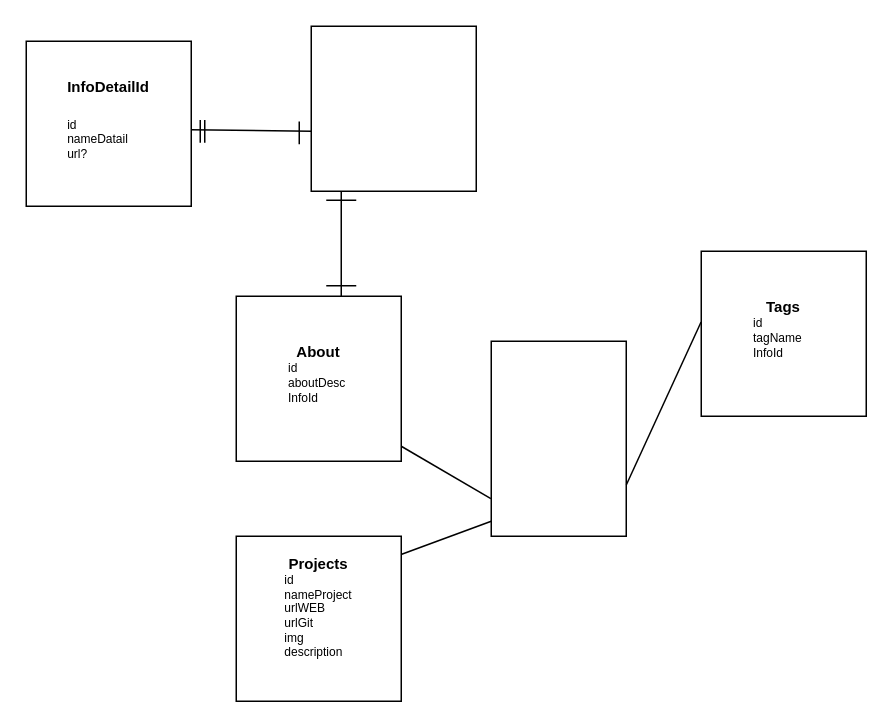
The diagram is 893 pixels wide and 728 high, and some of its shapes have lost their labels. The centre of each missing label's shape, as x and y in pixels:
Info id name detailId: point (393, 108)
user id userName name img lastName email minDesc tagsId aboutId projectsId: point (558, 438)
